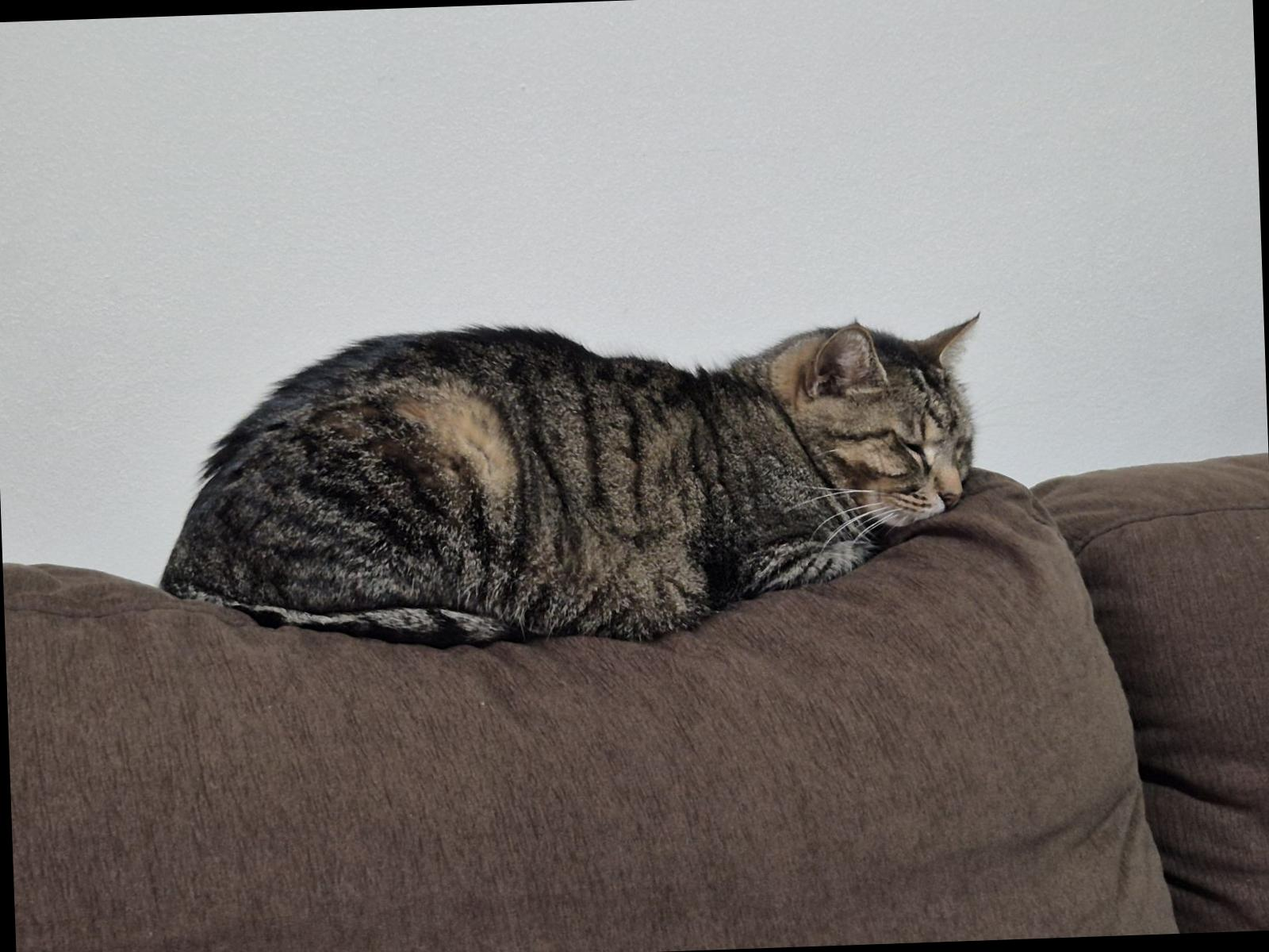macka: (157, 309, 991, 664)
